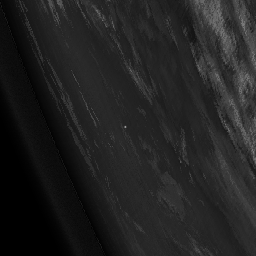Target: (122, 124, 128, 129)
